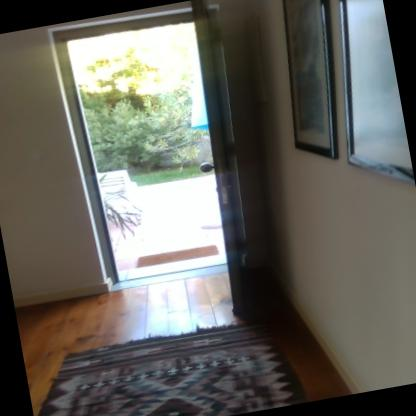open: (25, 0, 266, 304)
